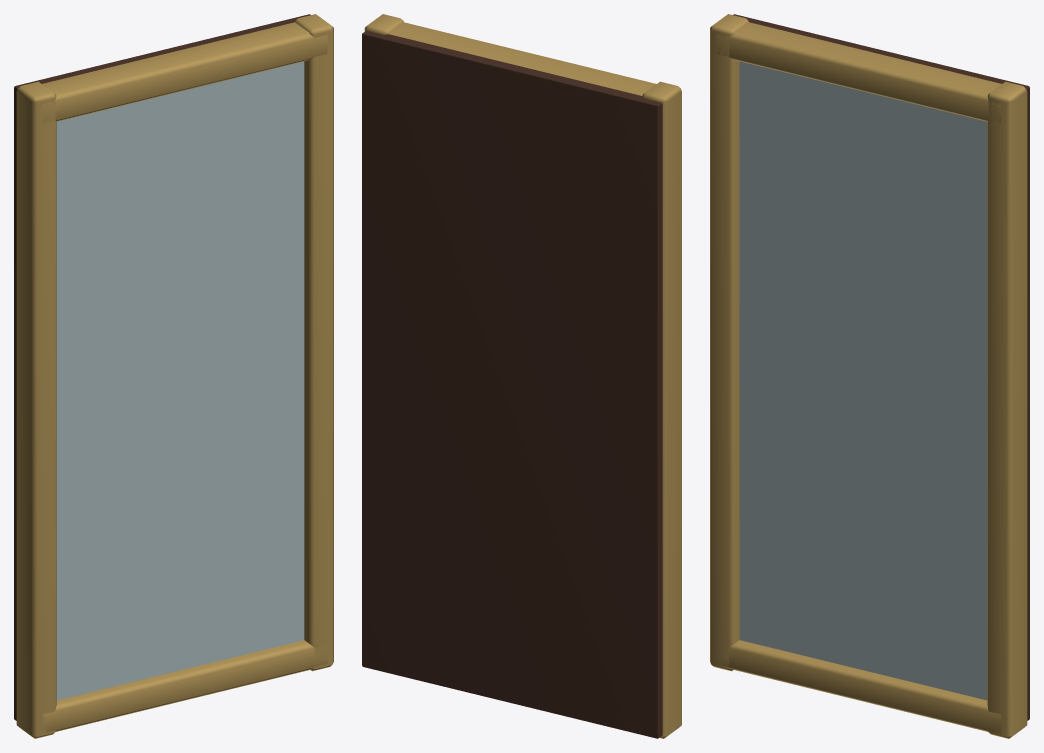
Rendered from rpg-mansion-mirror-01.glb.
The picture shows the model from 3 angles, left to right: view 1: azimuth 30°, elevation 25°; view 2: azimuth 150°, elevation 25°; view 3: azimuth 330°, elevation 25°; orthographic projection.
Visible parts, largest first — view 1: rpg-mansion-mirror-01; view 2: rpg-mansion-mirror-01; view 3: rpg-mansion-mirror-01.
Part boxes in pixels (bbox=[...]): rpg-mansion-mirror-01: bbox=[14, 14, 333, 738]; rpg-mansion-mirror-01: bbox=[362, 14, 681, 738]; rpg-mansion-mirror-01: bbox=[710, 14, 1029, 738].
Size of the model in its own units: 0.75 by 1.52 by 0.1.
